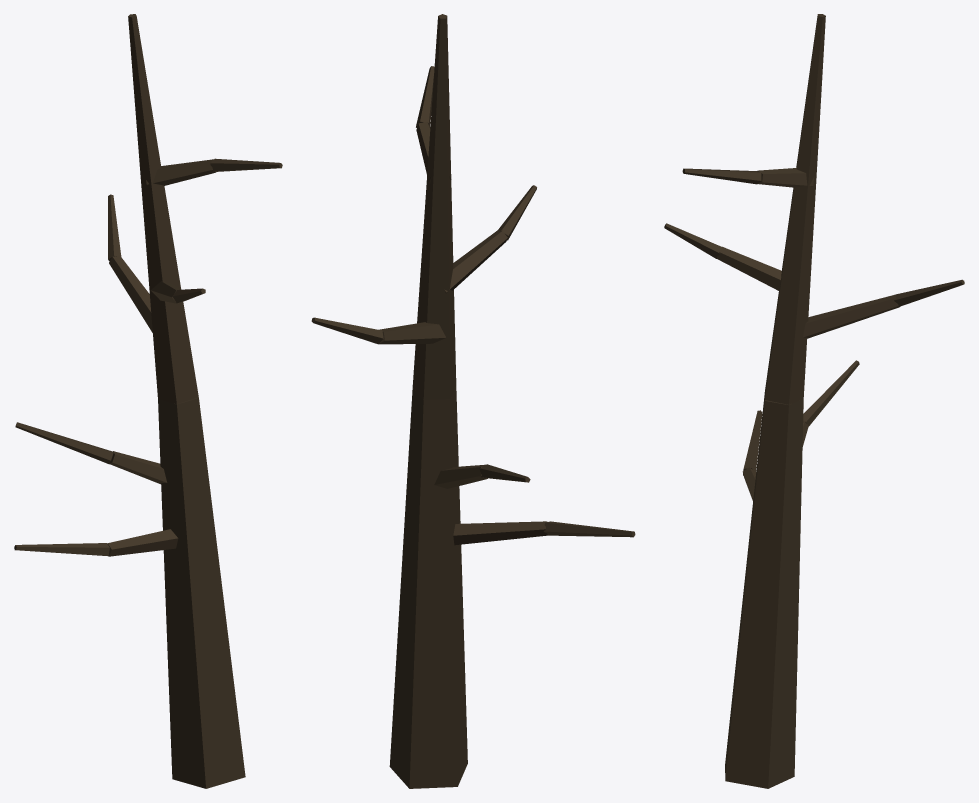
File: tree_dead_1_far.glb
3 views of the same model, side by side, from view 1: azimuth 30°, elevation 25°; view 2: azimuth 150°, elevation 25°; view 3: azimuth 270°, elevation 25° (orthographic). The views are drawn at different scales.
Parts seen in each view (by area): view 1: wood; view 2: wood; view 3: wood.
Part boxes in pixels (box(x1,y1,x2,y2)): wood: box(14, 14, 282, 788); wood: box(311, 14, 635, 788); wood: box(664, 14, 964, 788).
Size of the model in its own units: 2.32 by 7.22 by 2.66.
